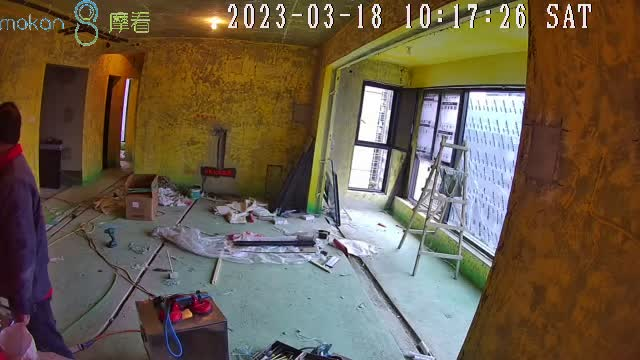people: (1, 100, 75, 360)
window: (347, 80, 527, 258)
